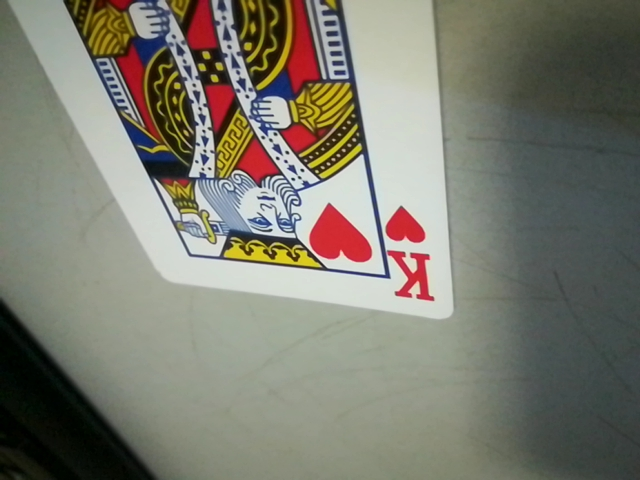hx k: (375, 202, 447, 310)
